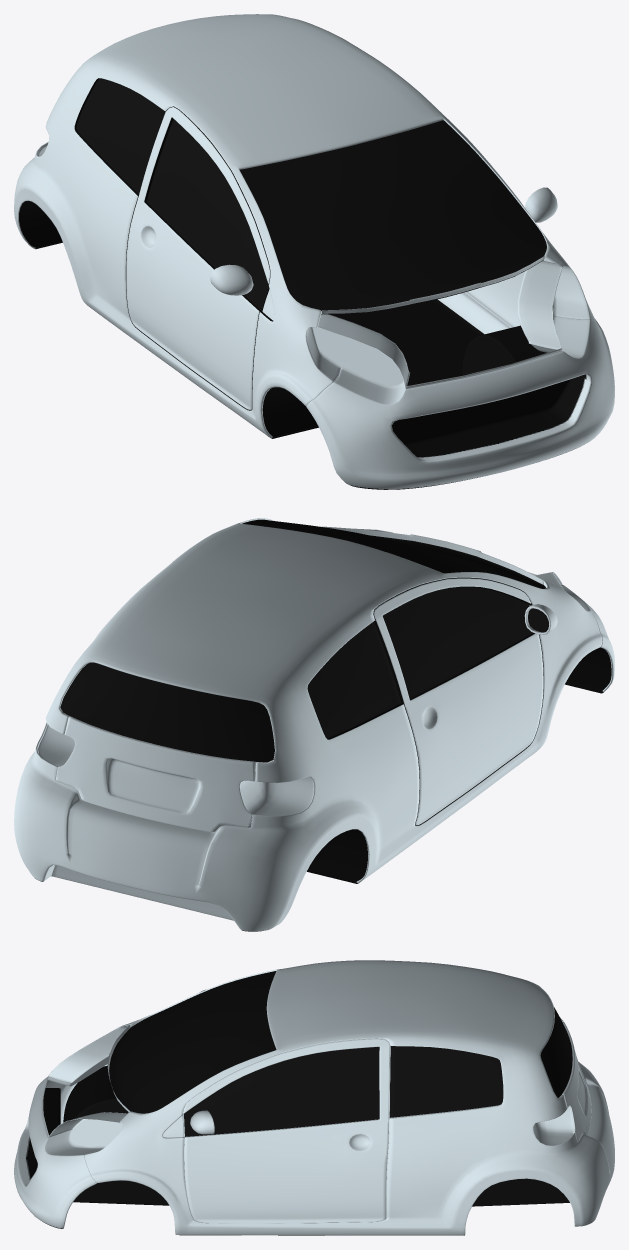
File: AutoB_base.fbx
3 views of the same model, one above another, from view 1: azimuth 30°, elevation 25°; view 2: azimuth 150°, elevation 25°; view 3: azimuth 270°, elevation 25° (orthographic). The views are drawn at different scales.
Visible parts, largest first — view 1: Body; view 2: Body; view 3: Body.
Boxes of the visible parts, x1,y1,x2,y2 form: Body: (14,14,614,489); Body: (14,518,614,931); Body: (14,960,614,1235).
Bounding box in the file's own units: 11.27 × 7.5 × 21.52.
